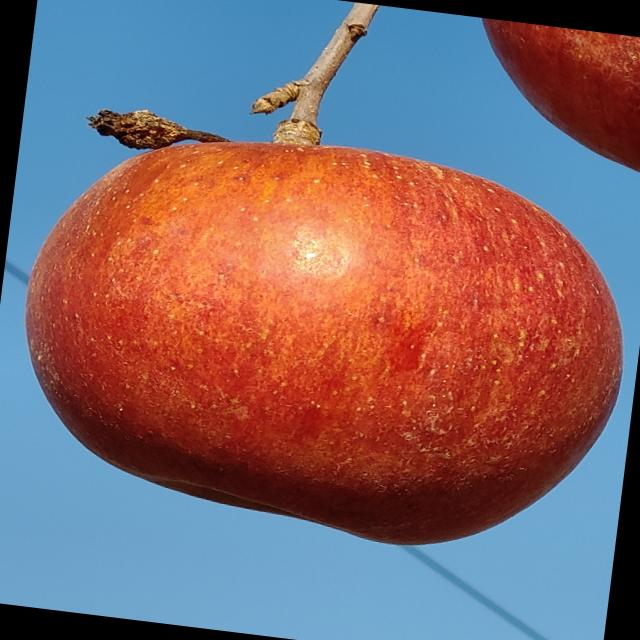fresh: (1, 102, 640, 579)
